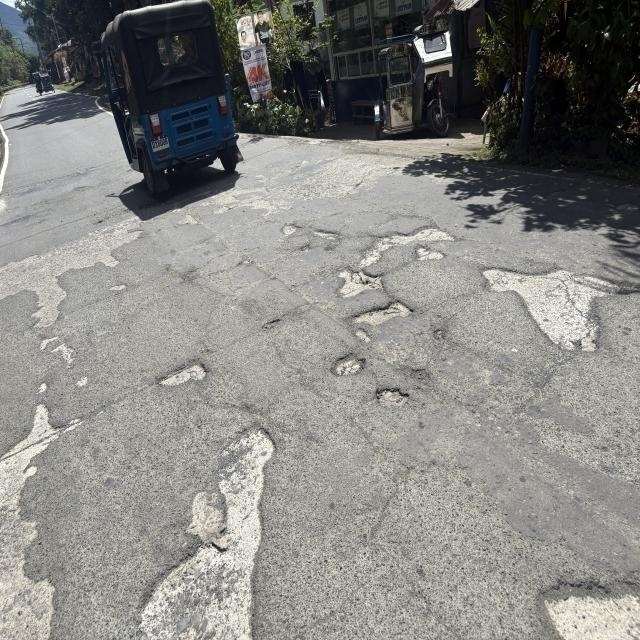pothole: (109, 409, 296, 640), (0, 396, 94, 640), (471, 241, 640, 369), (313, 216, 470, 330), (515, 541, 640, 640), (118, 356, 222, 402), (328, 334, 372, 390), (376, 378, 418, 416), (272, 214, 303, 253)
